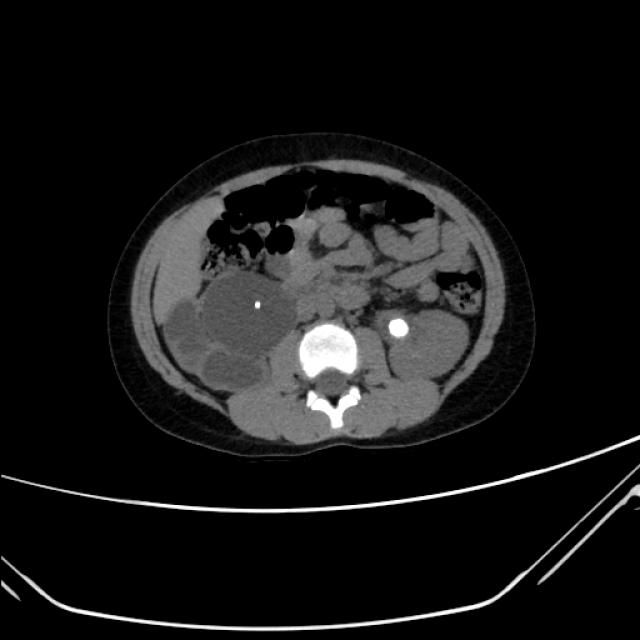kidney: (372, 301, 478, 386), (202, 270, 302, 358)
stone: (388, 317, 412, 340), (251, 295, 263, 312)
